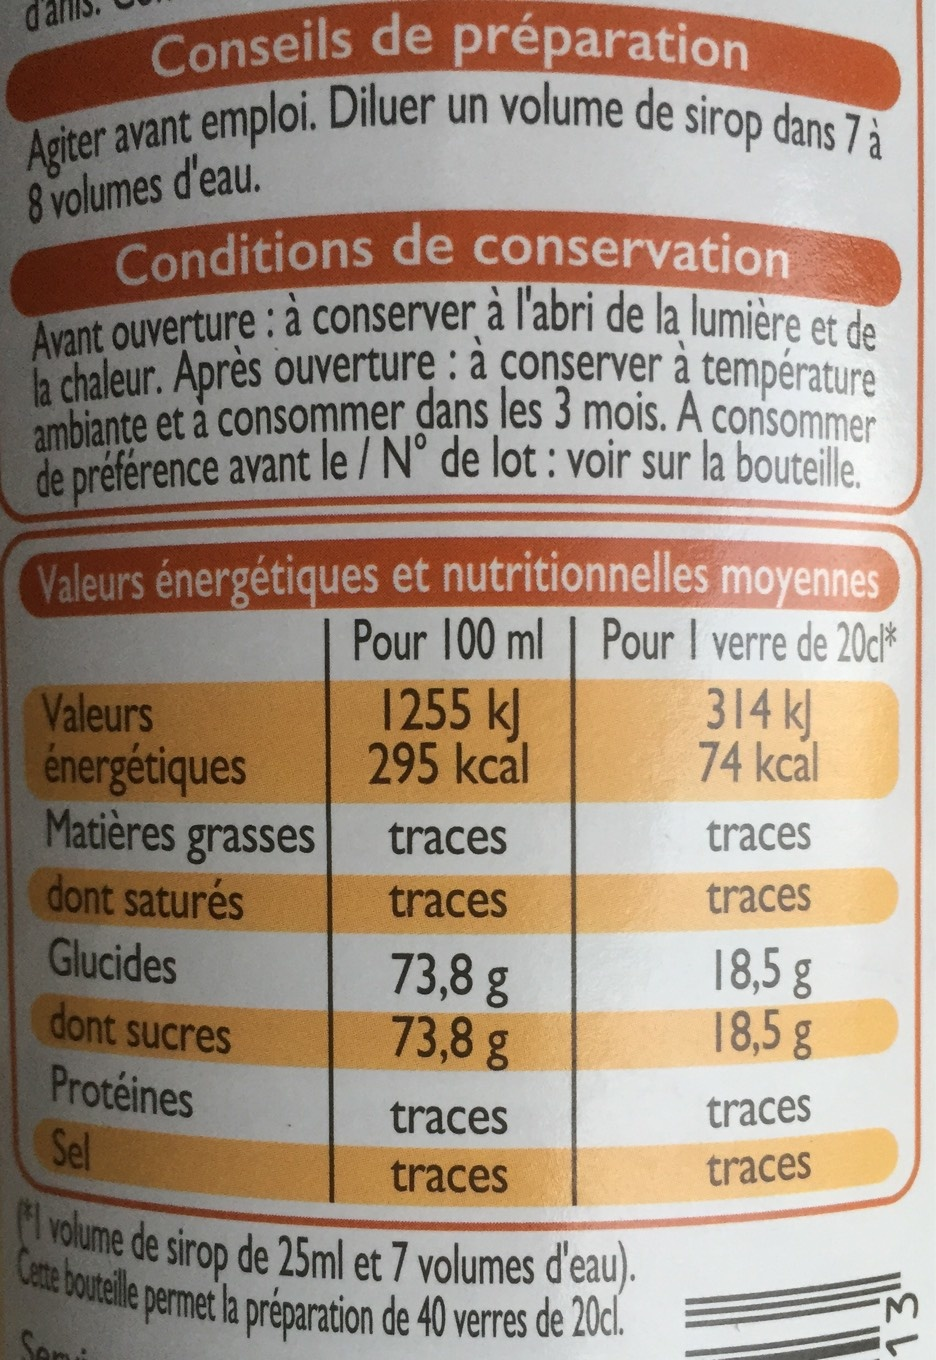column: (602, 610, 900, 1191), (39, 620, 316, 1185), (350, 612, 545, 1199)
table: (12, 526, 927, 1224)
